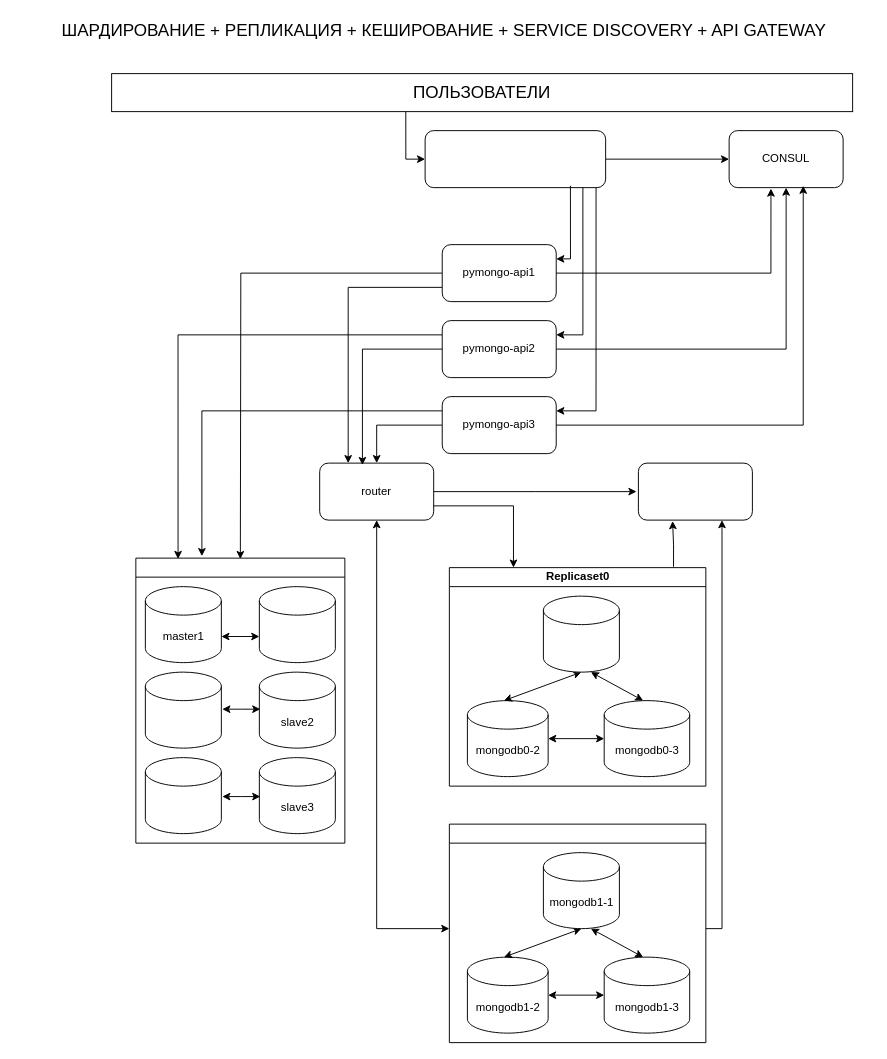
The diagram is 887 pixels wide and 1059 high, and some of its shapes have lost their labels. The shapes that lost their labels are listed below. From the top down, each one's box as (x1, y1, x2, y2) in pixels, then its label:
(424, 130, 606, 188): APISIX GATEWAY
(637, 462, 752, 520): configServer
(258, 586, 335, 663): slave1
(542, 595, 619, 672): mongodb0-1
(144, 671, 221, 748): master2
(135, 557, 345, 843): redis cluster
(144, 757, 221, 834): master3
(448, 823, 706, 1043): Replicaset1
